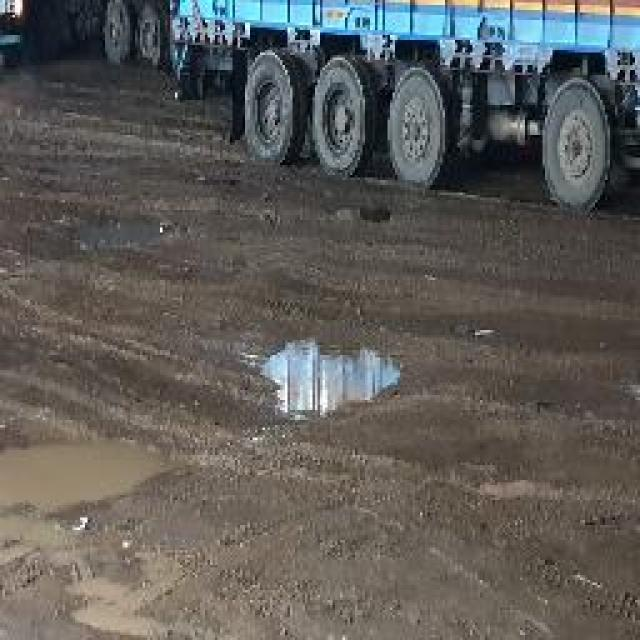stagnation: (0, 424, 189, 514), (45, 535, 193, 640), (10, 196, 185, 284), (253, 330, 406, 426)
